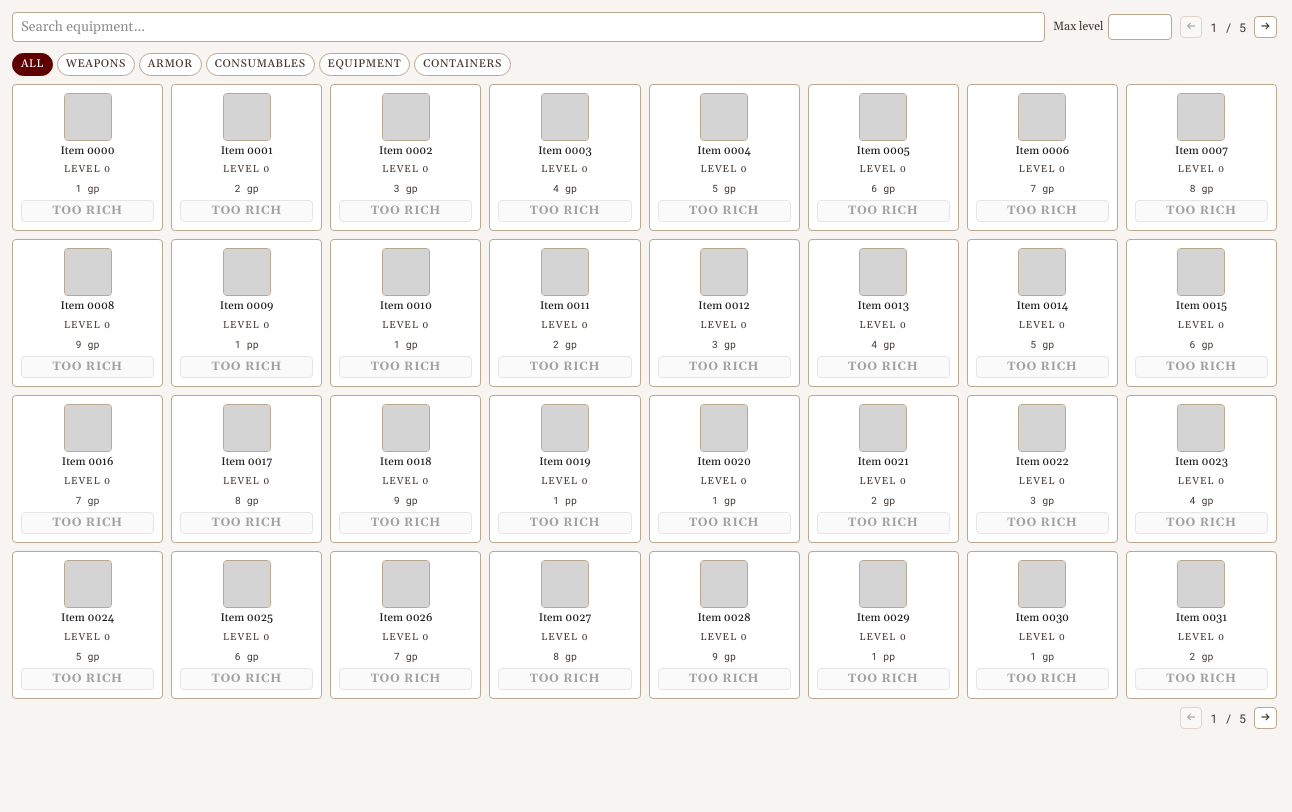
Test: ItemShopPicker — pagination › disables Prev on page 1 and Next on the last page
The image size is (1292, 812).
Check: the button with test id "pagination-prev" next to "Max level" is disabled, box [1180,16,1202,38]
Click the button with test id "pagination-next" in the row of "Max level": (1266, 27) [1254,16,1277,38]
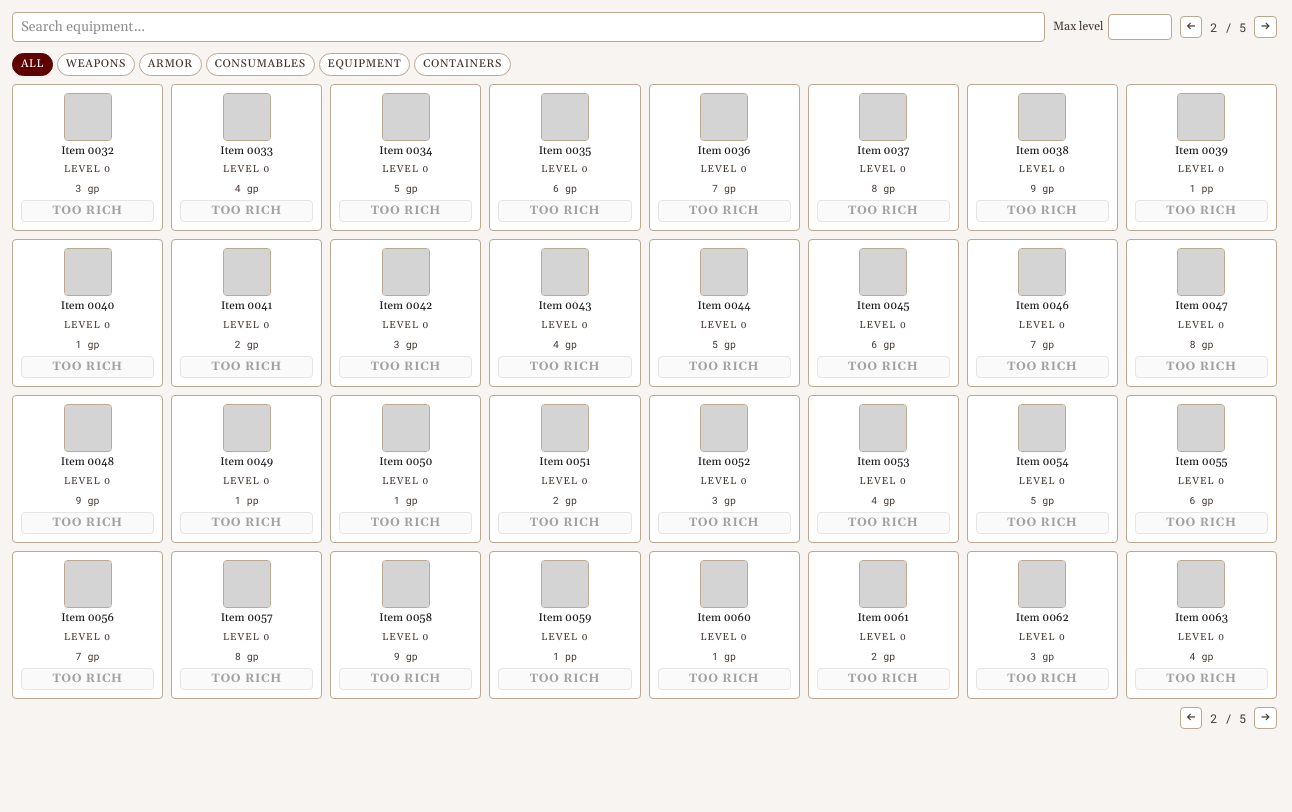
Click the button with test id "pagination-next" in the row of "Max level": (1266, 27) [1254,16,1277,38]
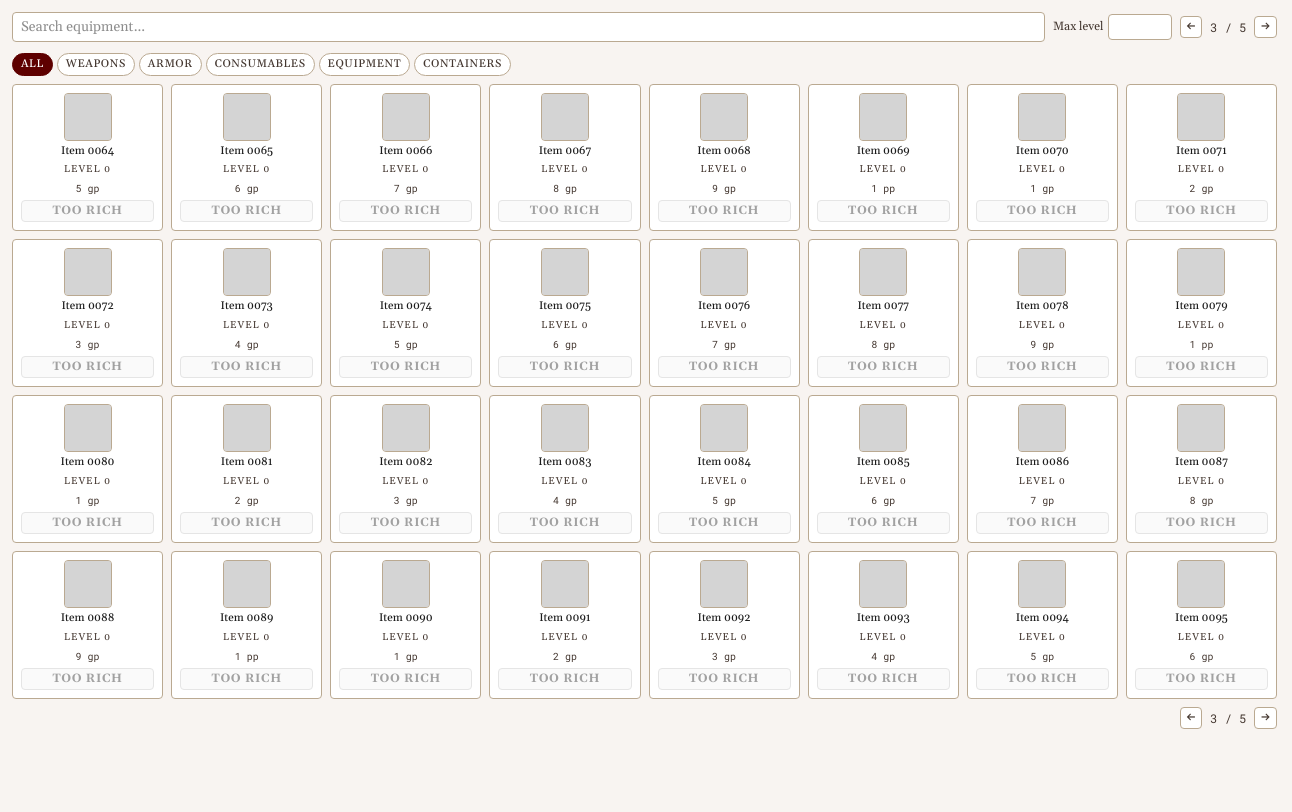
Click the button with test id "pagination-next" in the row of "Max level": (1266, 27) [1254,16,1277,38]
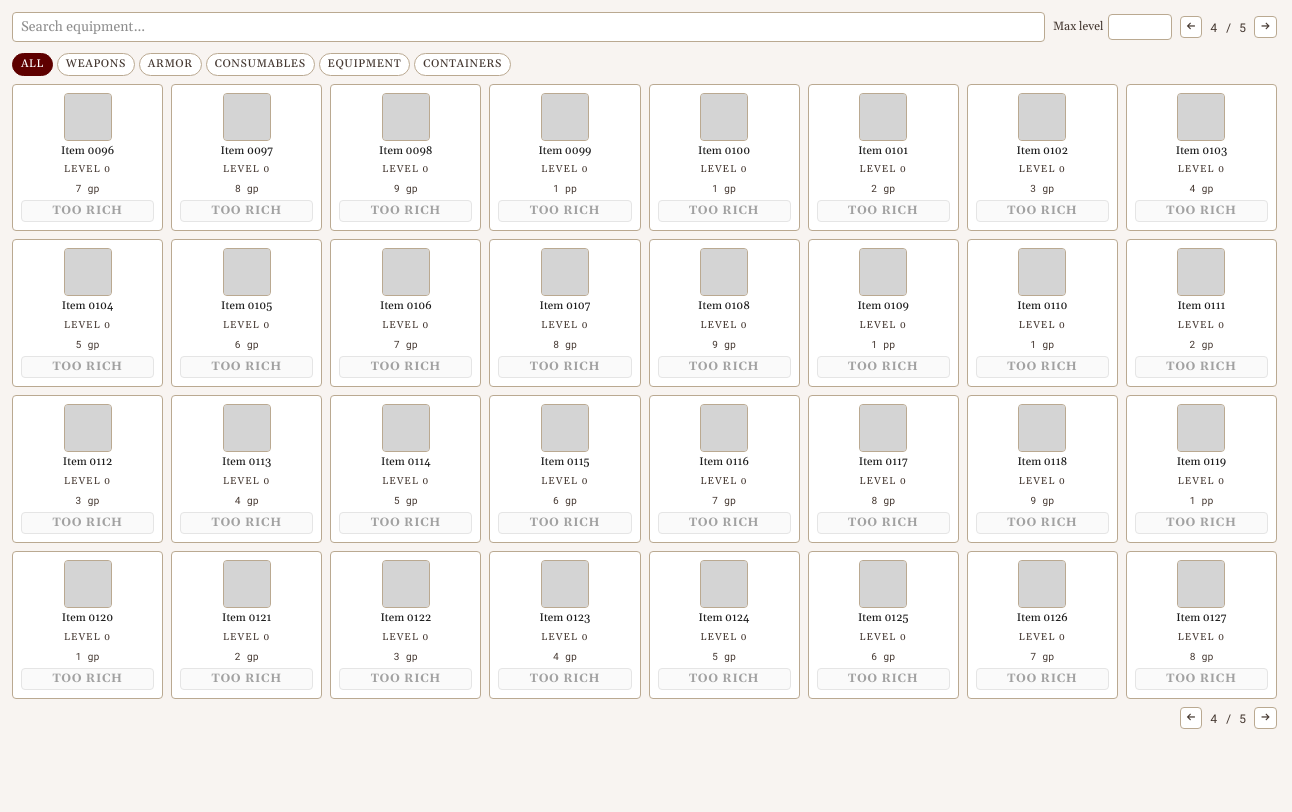
Click the button with test id "pagination-next" in the row of "Max level": (1266, 27) [1254,16,1277,38]
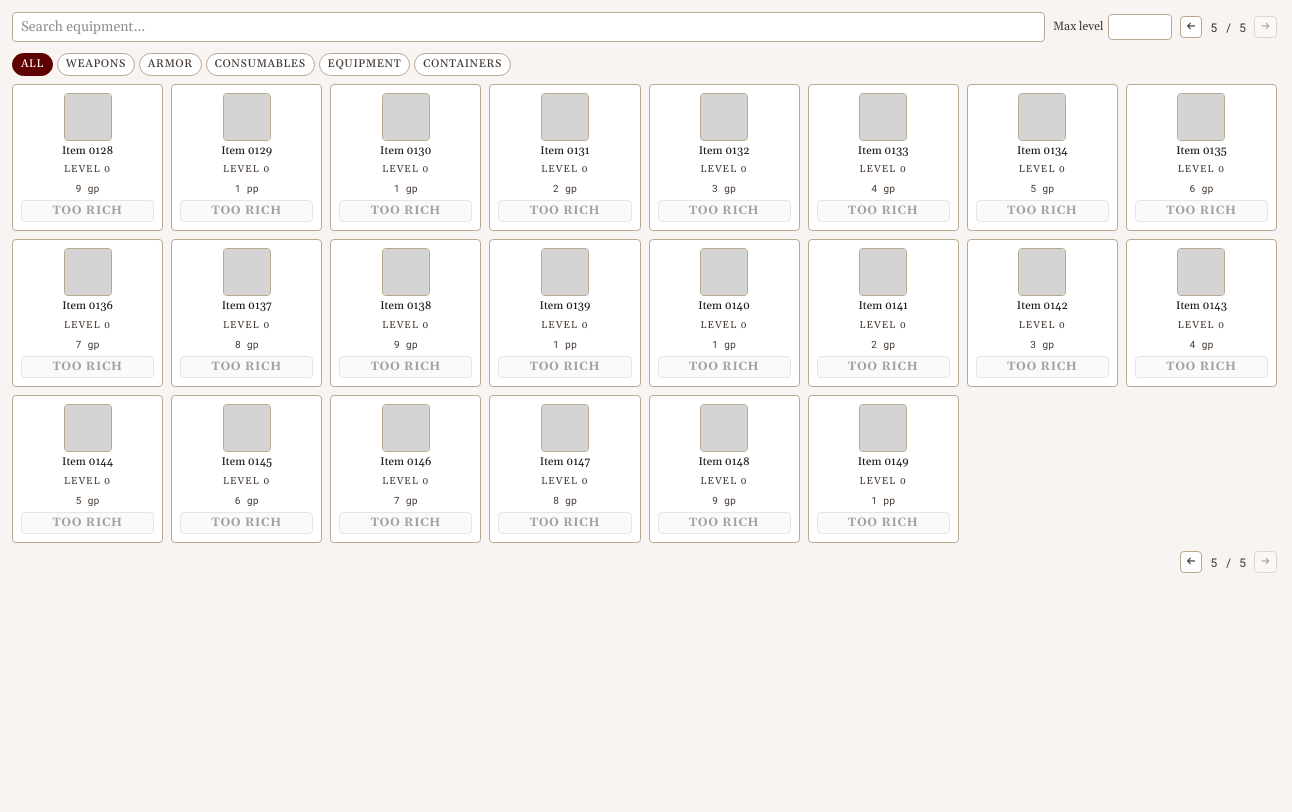
Check: the button with test id "pagination-next" in the row of "Max level" is disabled, box [1254,16,1277,38]
